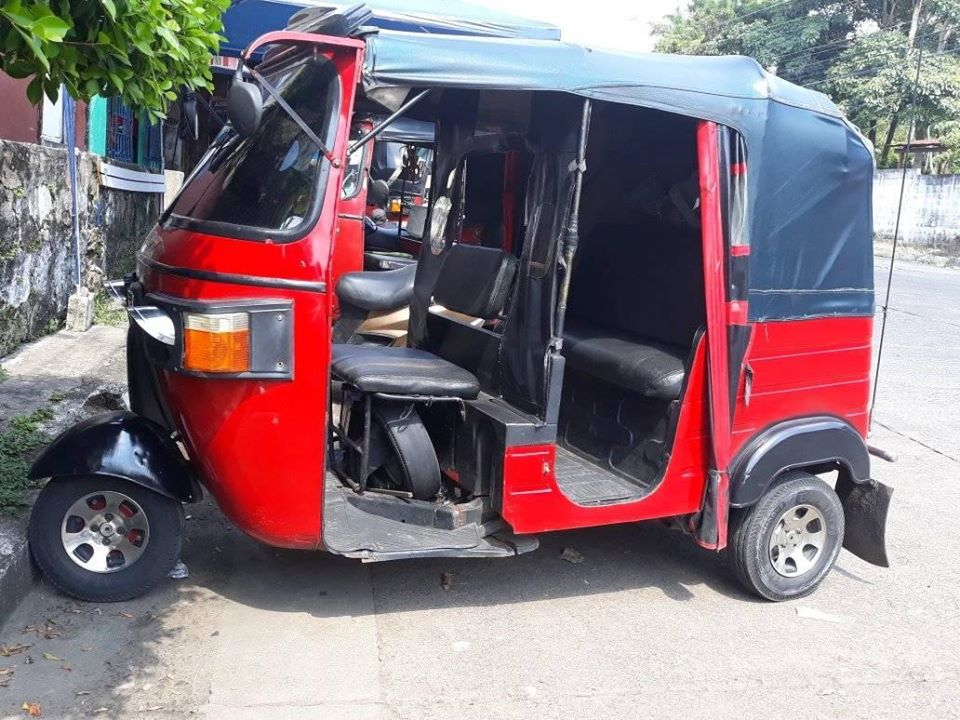mototaxi: (39, 26, 897, 609)
